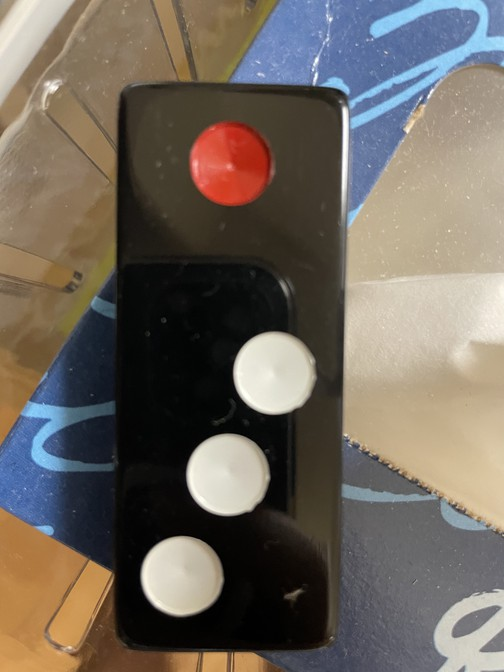goose: (116, 83, 341, 651)
